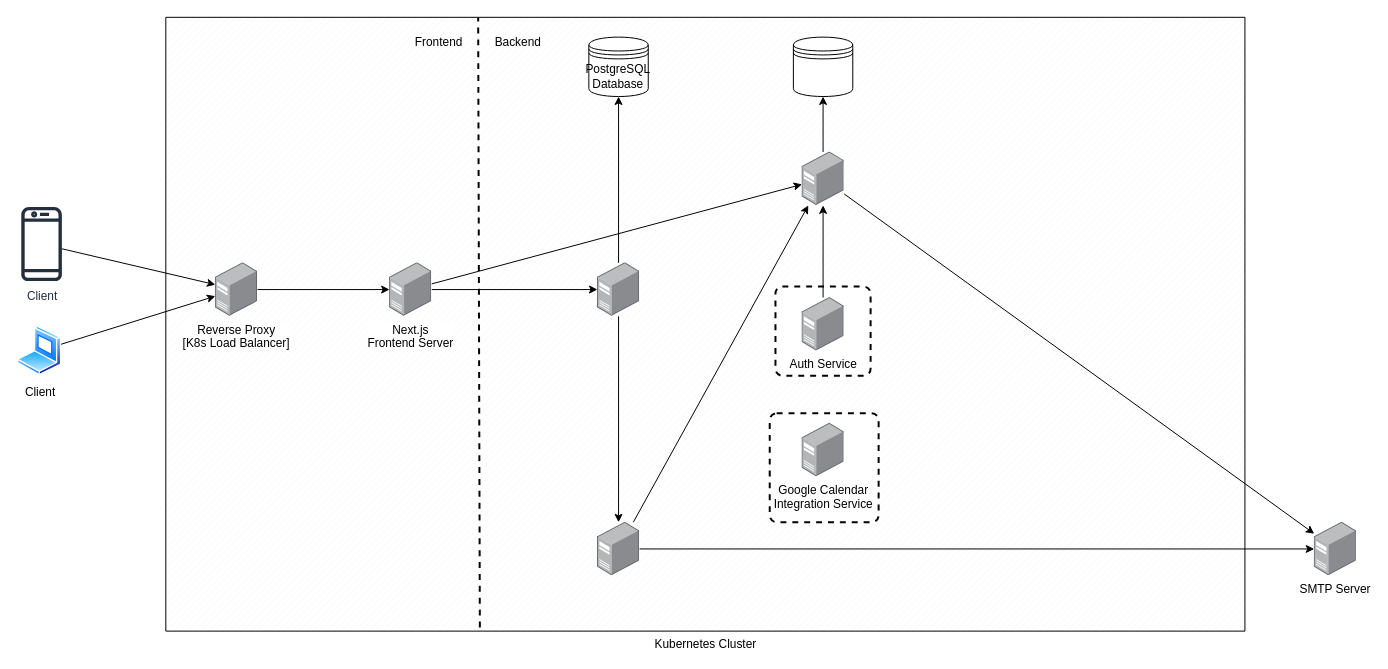
The diagram is 1388 pixels wide and 669 high, and some of its shapes have lost their labels. Here are the shapes that lost their labels. From the top down, the box of each, then its label:
(792, 36, 853, 97): Credentials Database
(802, 151, 844, 205): Keycloak
(597, 262, 639, 316): Match Service
(597, 522, 639, 575): Notification Service
